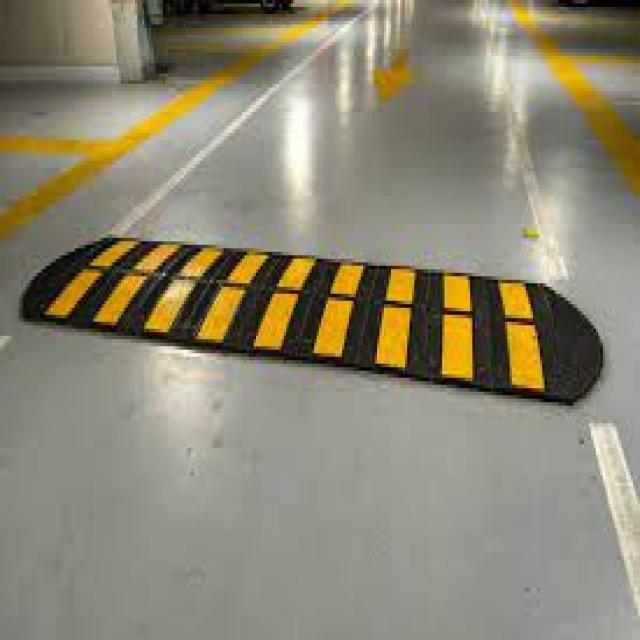speed-bump: (0, 209, 614, 416)
